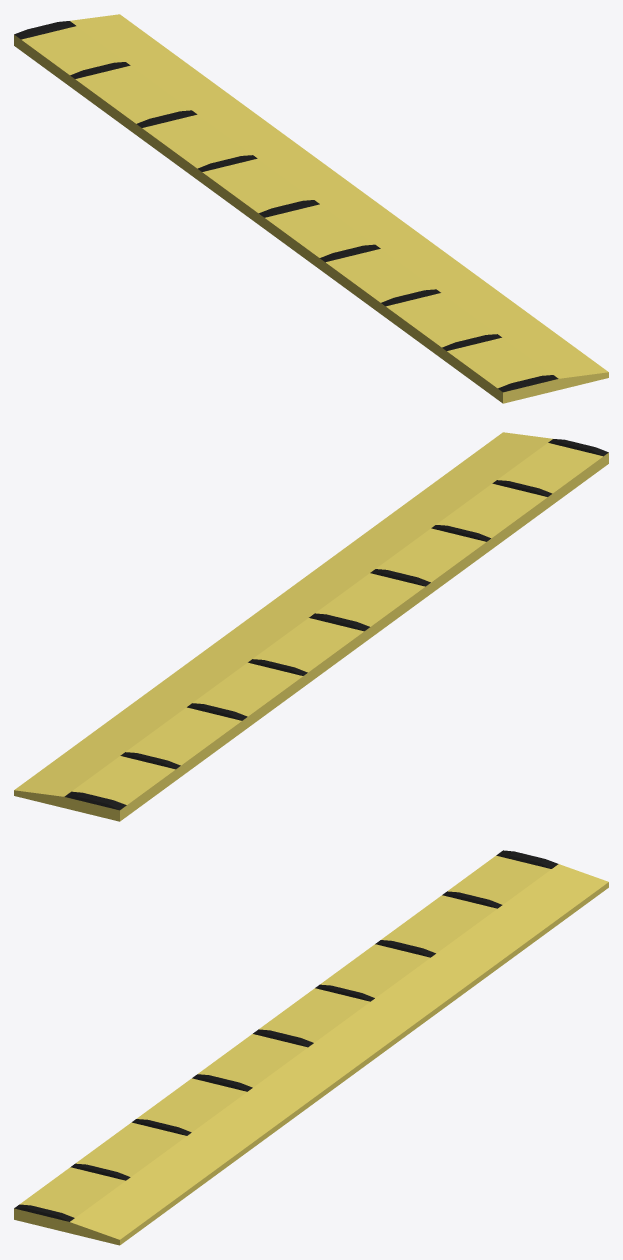
The model's file is Lineyka.fbx.
The picture shows the model from 3 angles, top to bottom: view 1: azimuth 30°, elevation 25°; view 2: azimuth 150°, elevation 25°; view 3: azimuth 330°, elevation 25°; orthographic projection.
Visible parts, largest first — view 1: Cube; view 2: Cube; view 3: Cube.
Part boxes in pixels (x1=…): Cube: x1=14, y1=14, x2=608, y2=403; Cube: x1=14, y1=432, x2=608, y2=821; Cube: x1=14, y1=850, x2=608, y2=1245.
Size of the model in its own units: 200 by 25.04 by 1600.
